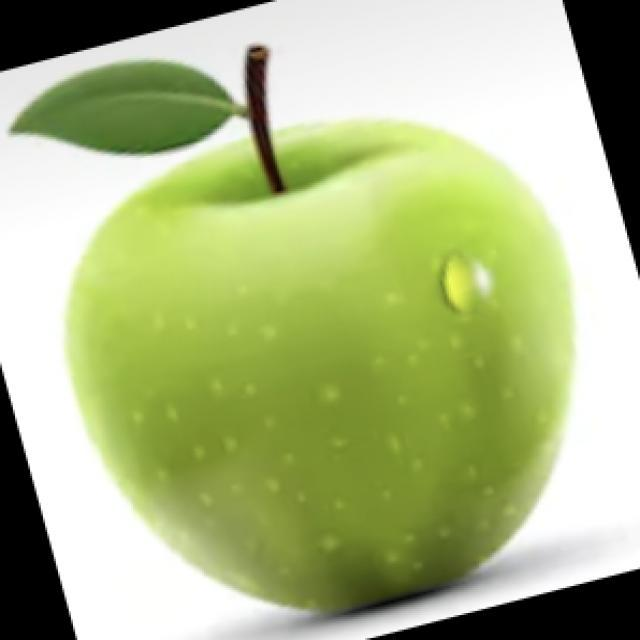Fresh Apple: (39, 105, 568, 620)
